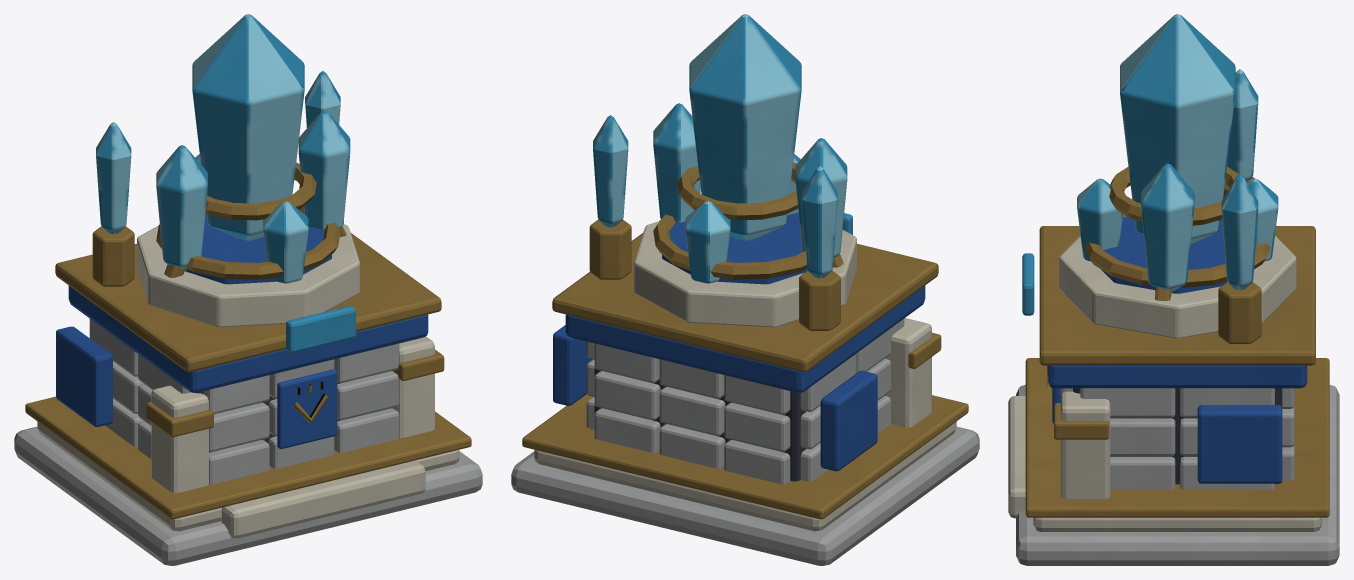
File: frost_tower_high.glb
The picture shows the model from 3 angles, left to right: view 1: azimuth 30°, elevation 25°; view 2: azimuth 150°, elevation 25°; view 3: azimuth 270°, elevation 25°; orthographic projection. The views are drawn at different scales.
Parts seen in each view (by area): view 1: frost_tower_high_surface; view 2: frost_tower_high_surface; view 3: frost_tower_high_surface.
Part boxes in pixels (<box>): frost_tower_high_surface: <box>14,14,482,565</box>; frost_tower_high_surface: <box>511,14,979,565</box>; frost_tower_high_surface: <box>1008,14,1339,565</box>.
Bounding box in the file's own units: 1.53 × 2.11 × 1.33.
1 material, 1 textured.
